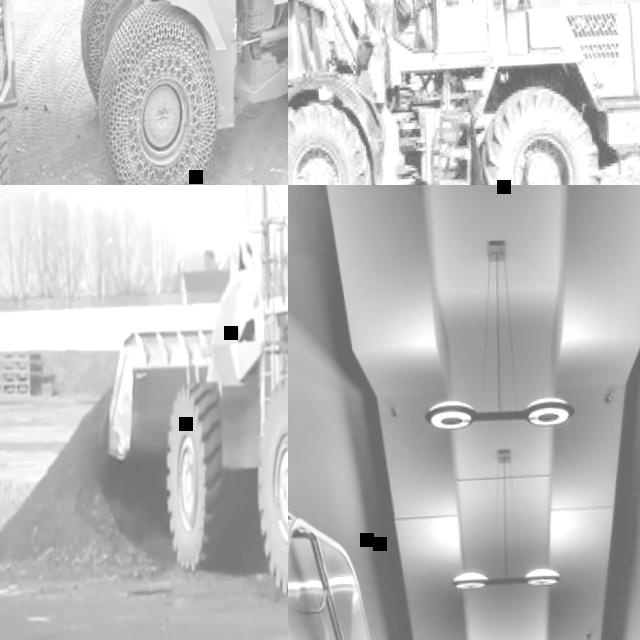machinery: (90, 185, 288, 612), (288, 0, 640, 185), (0, 0, 288, 185)
